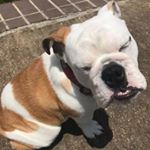puppy: (1, 1, 149, 150)
